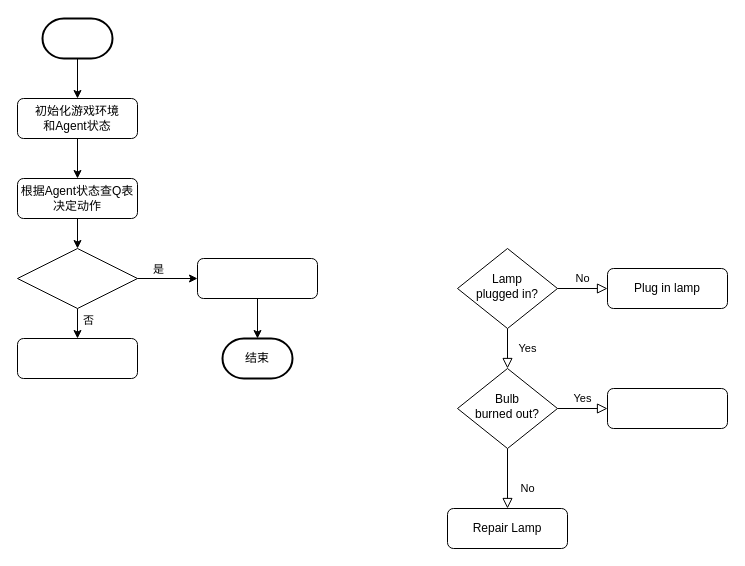
This 745x566 diagram has some shape labels left out. The shapes that lost their labels are listed below. From the top down, each one's centre as x and y in pixels, then its label:
(x=77, y=38): 开始
(x=77, y=278): 是否发生碰撞？
(x=257, y=278): 更新Q表 update_qvalues
(x=667, y=408): Replace Bulb
